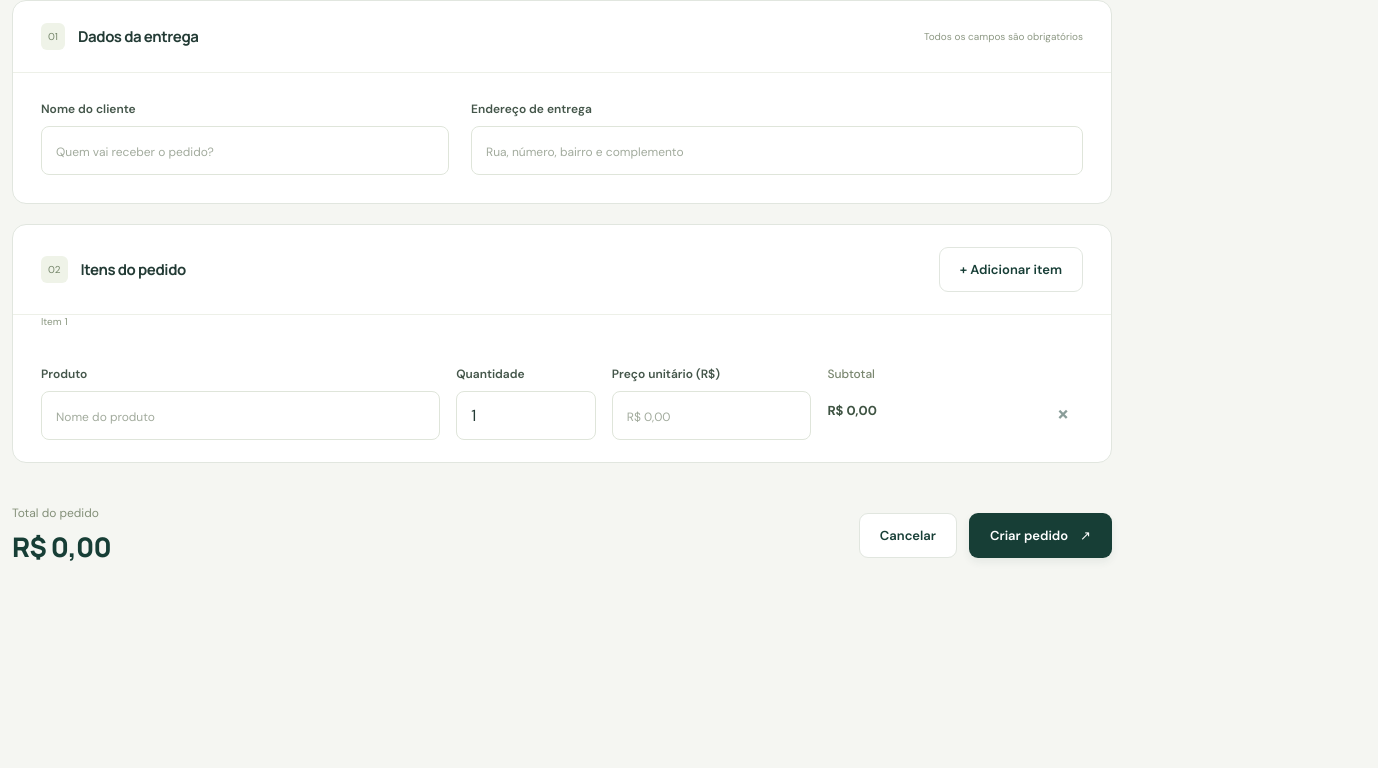
it: Create order › rejects a zero amount instead of sending an invalid price
This screenshot has width=1378, height=768.
Step 1. Type "Cliente" into the field labelled "Nome do cliente" → (245, 150), box [41,126,449,175]
Step 2. Type "Rua das Flores, 10" into the field labelled "Endereço de entrega" → (777, 150), box [471,126,1083,175]
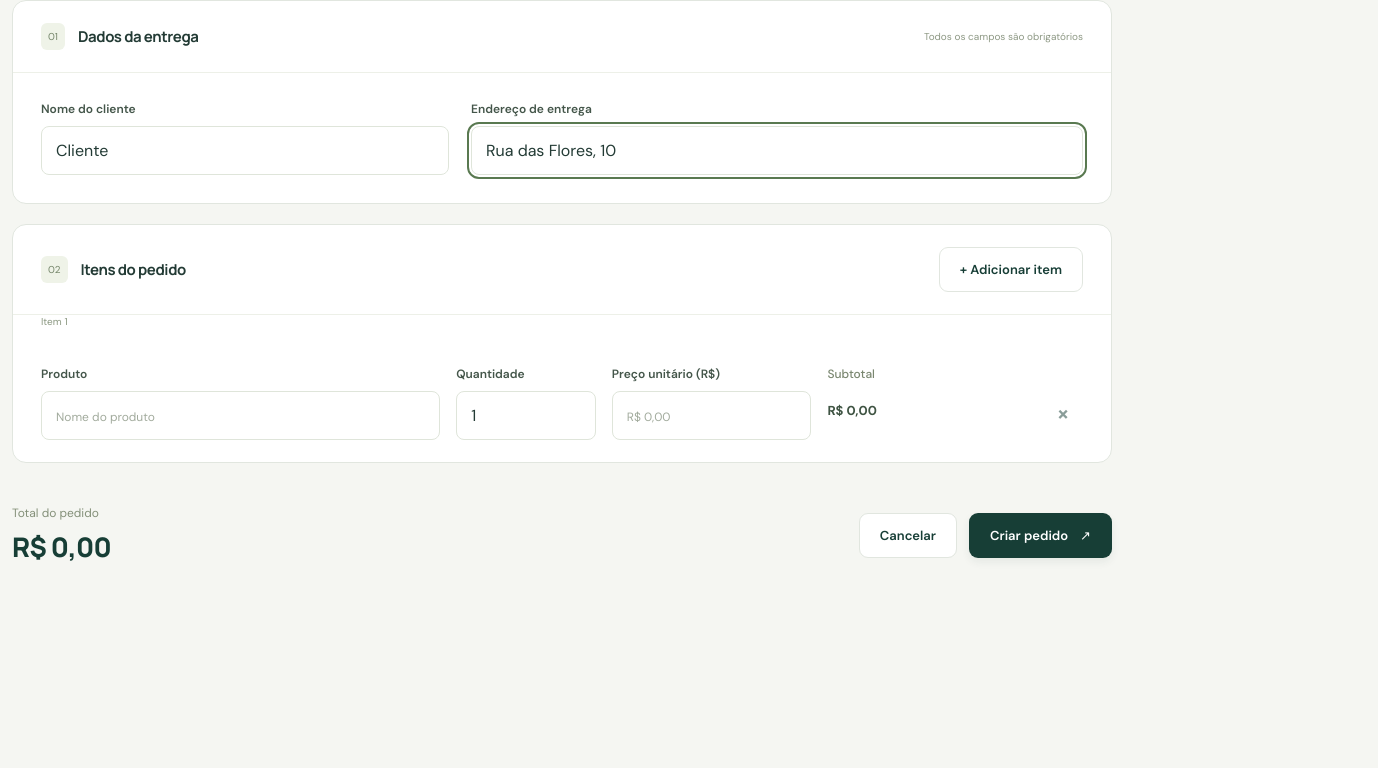
Step 3. Type "Produto" into the field labelled "Produto" → (241, 416), box [41,391,440,440]
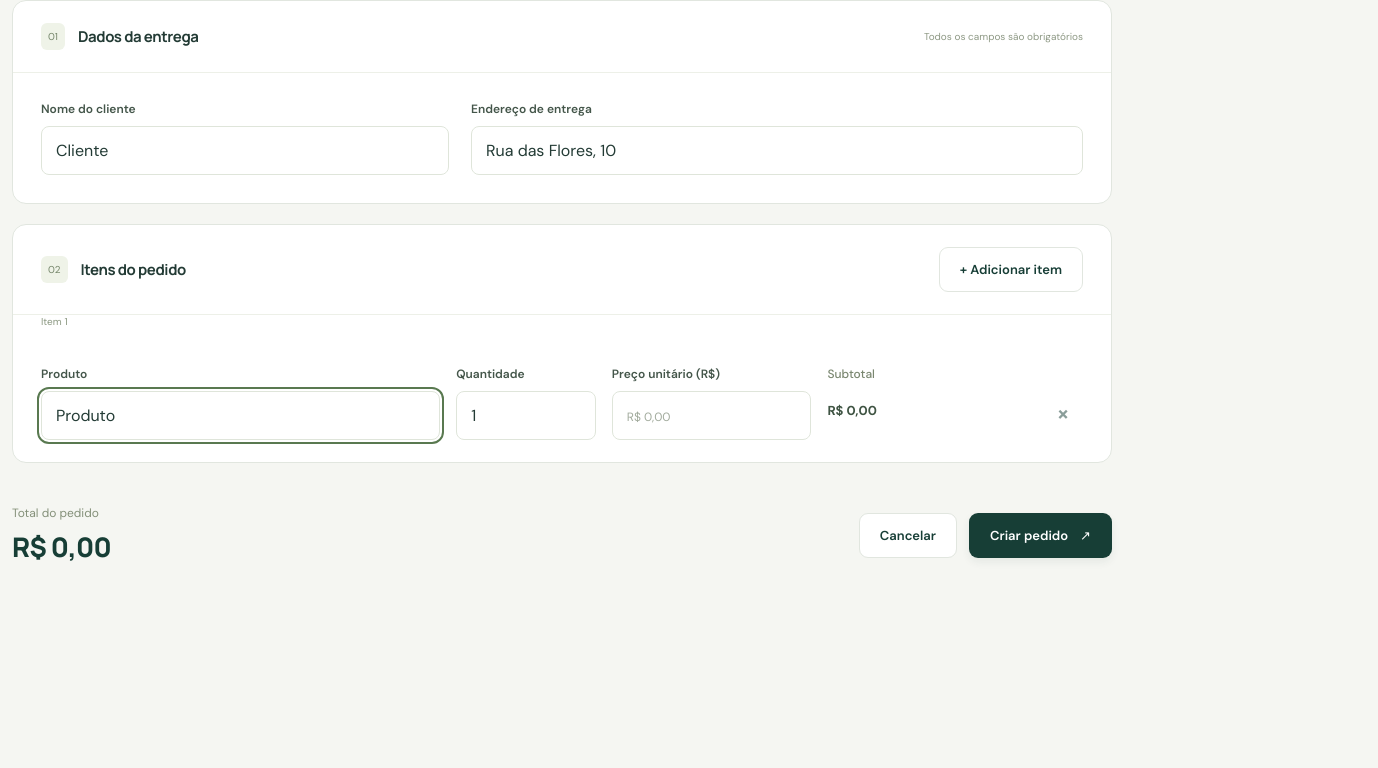
Step 4. Replace the text in the number field labelled "Quantidade" with "2" → (526, 416), box [456,391,596,440]
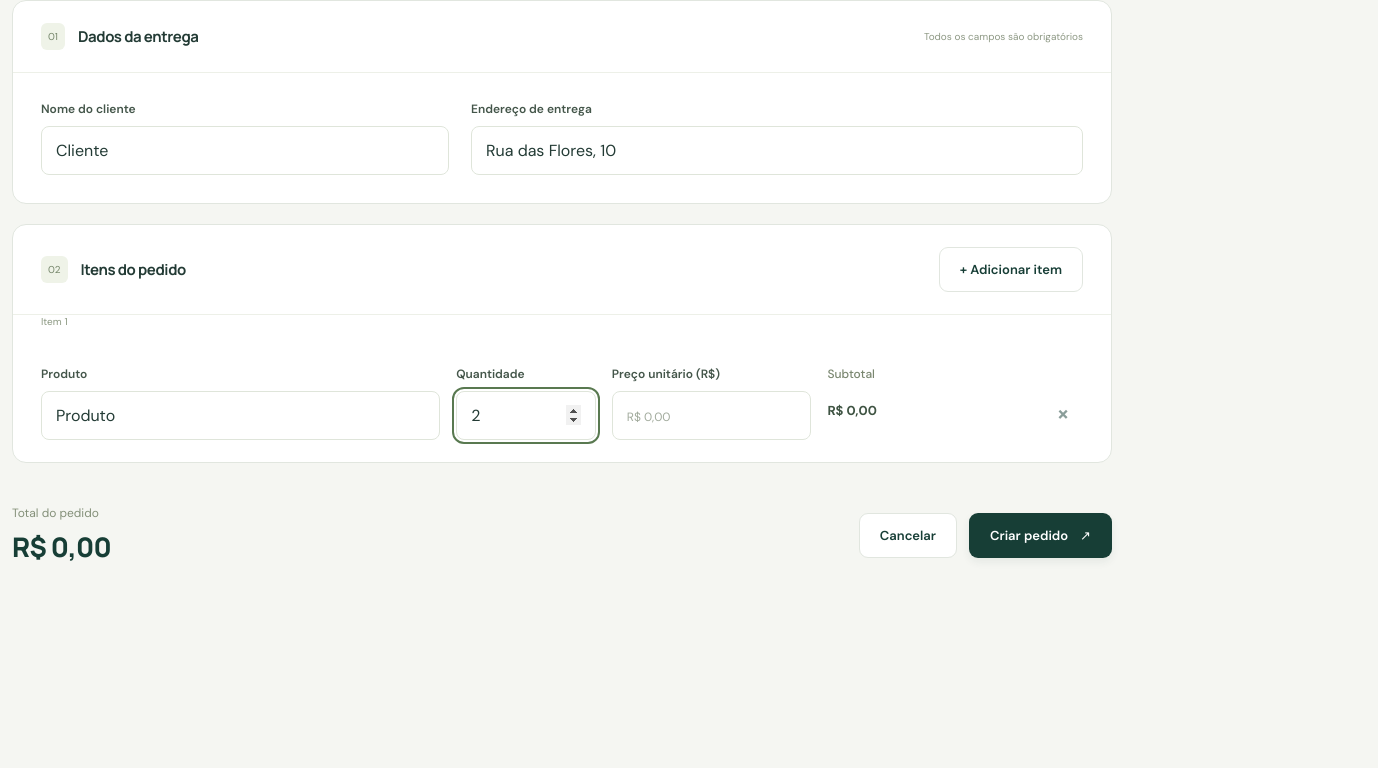
Step 5. Type "12,50" into the field labelled "Preço unitário (R$)" → (712, 416), box [612,391,811,440]
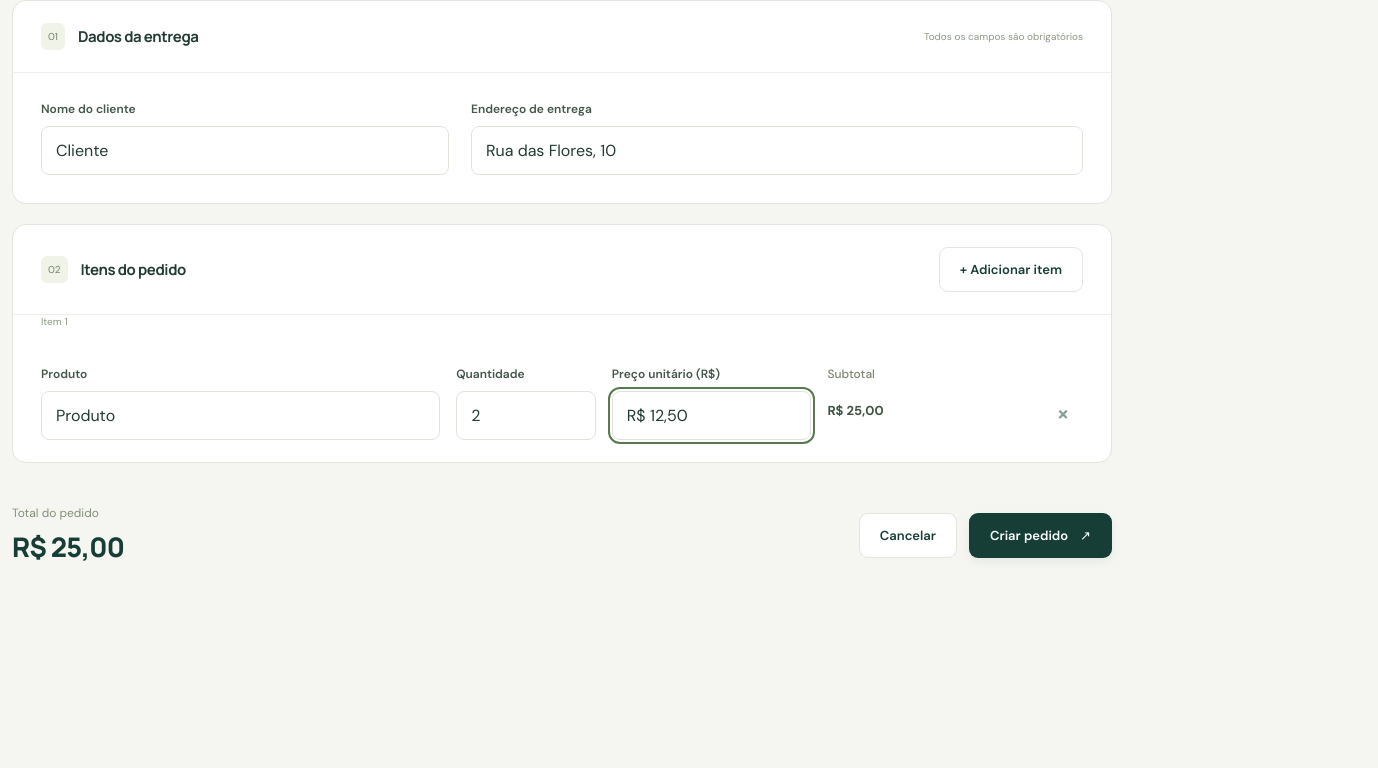
Step 6. Replace the text in the field labelled "Preço unitário (R$)" with "0" → (712, 416), box [612,391,811,440]
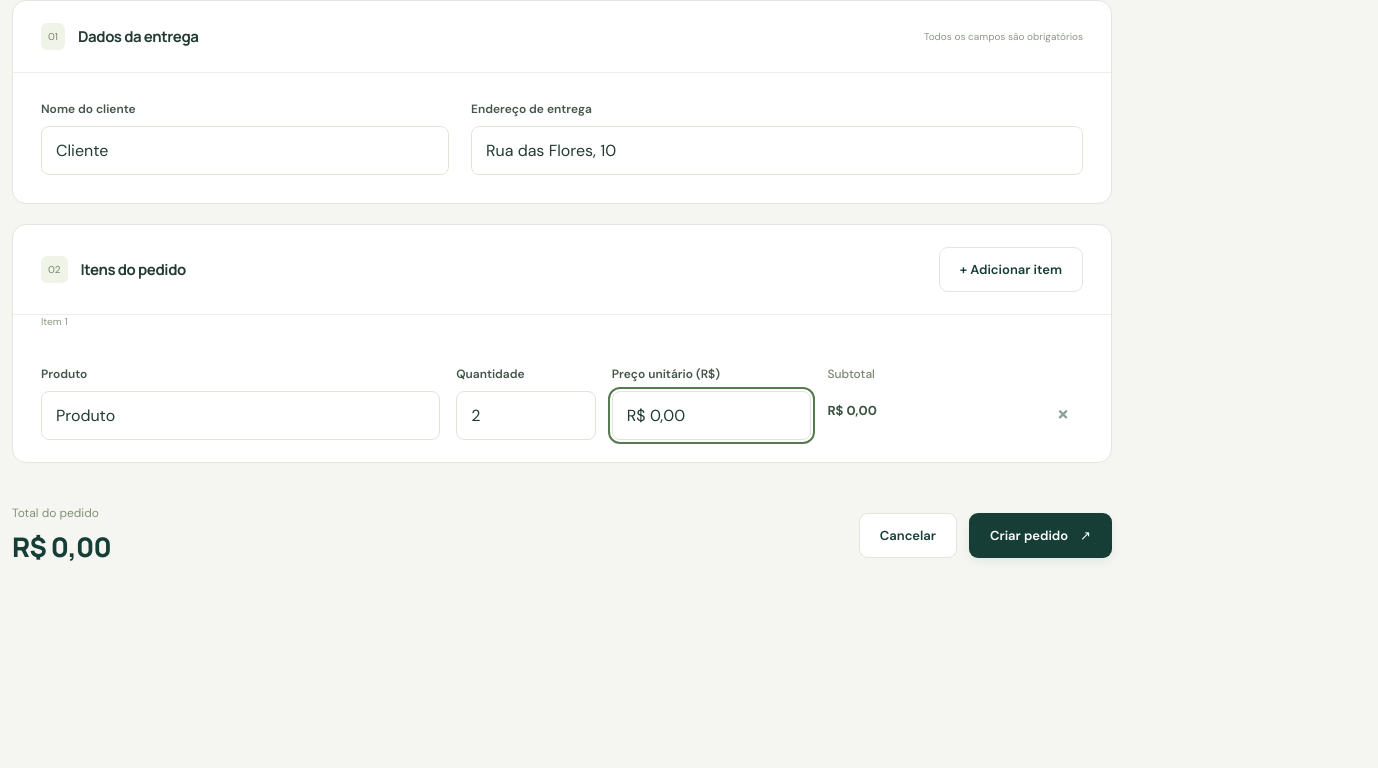
Step 7. Click the button "Criar pedido ↗" → (1040, 535), box [969,512,1112,558]
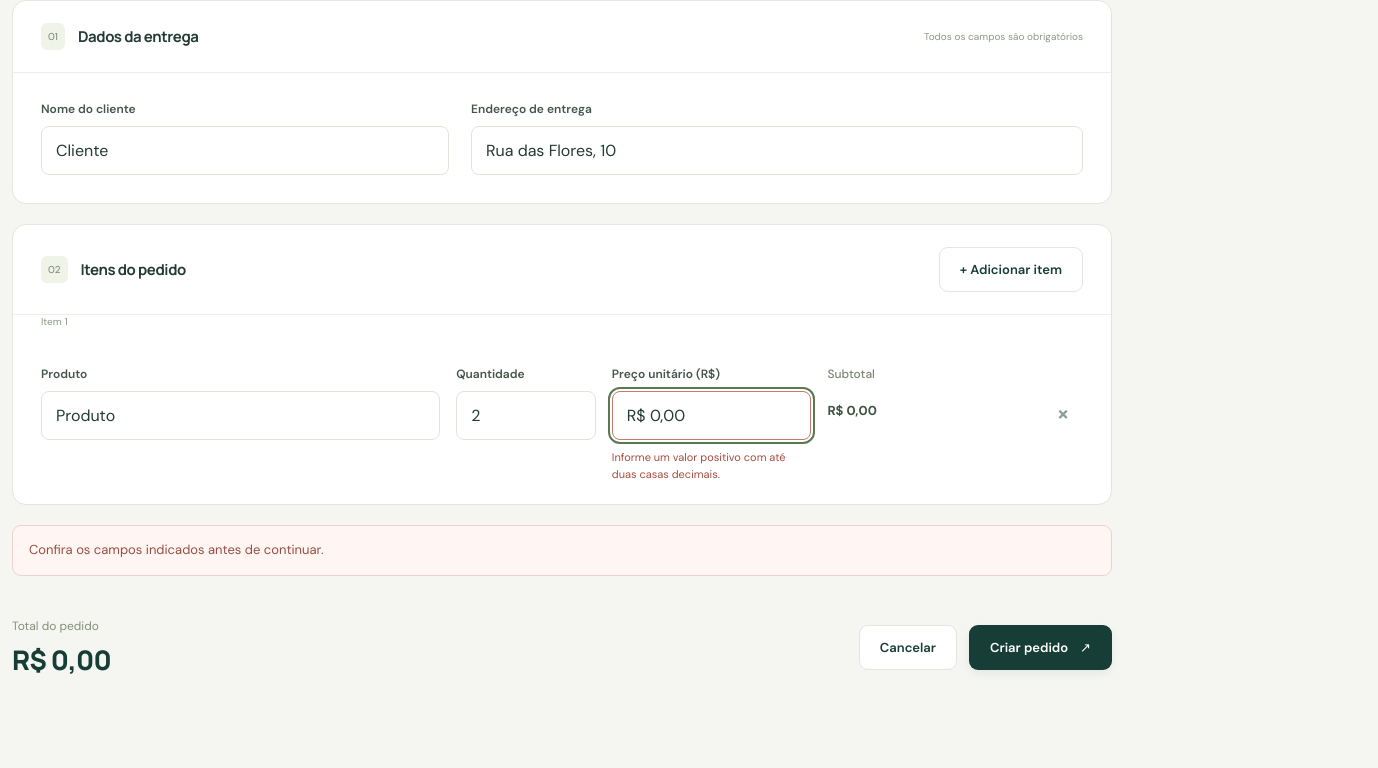
Check: the text "Informe um valor positivo com até duas casas decimais." is shown, box [612,449,811,482]
